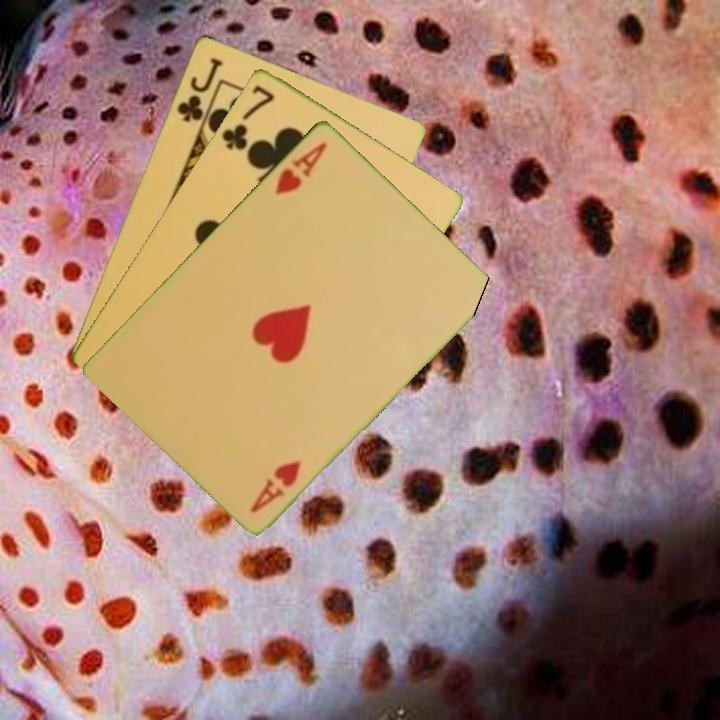7c: (218, 81, 277, 153)
Ah: (271, 138, 330, 198), (246, 456, 304, 516)
Jc: (173, 53, 225, 125)
